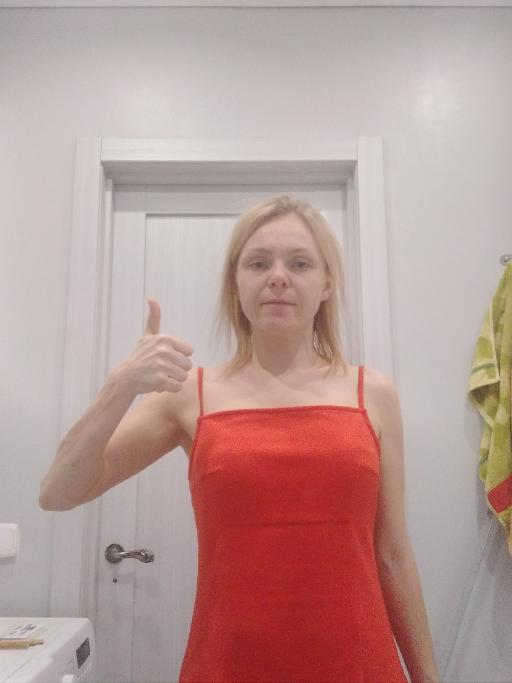like: (125, 295, 193, 399)
